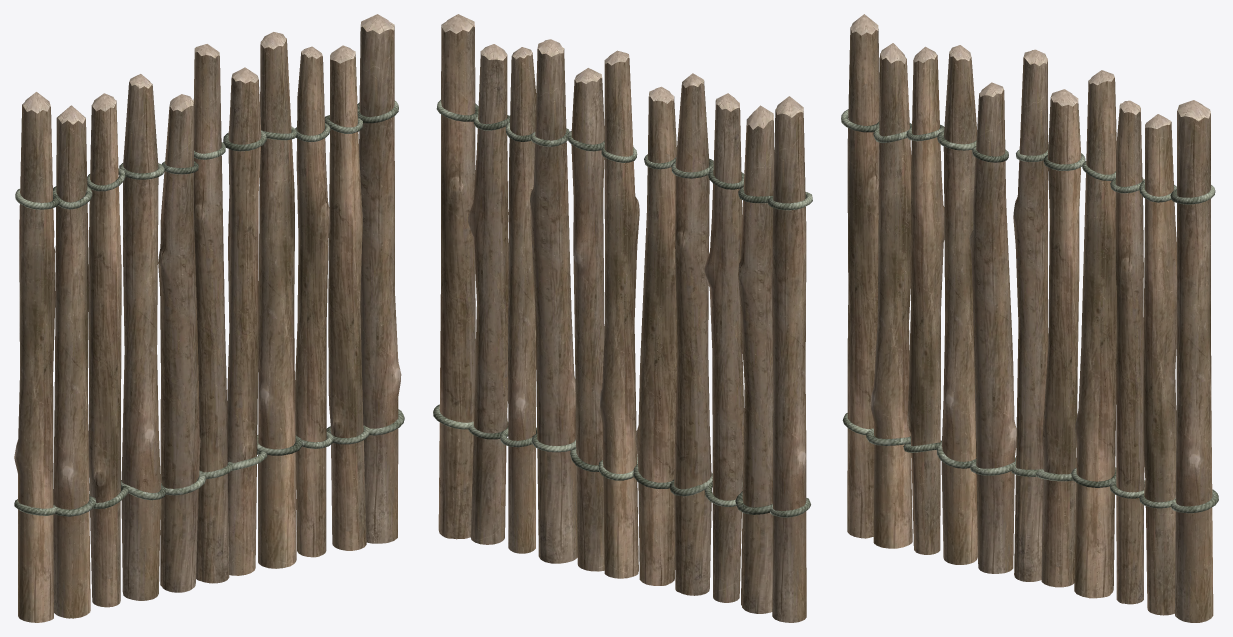
3 renders of one model, left to right at view 1: azimuth 30°, elevation 25°; view 2: azimuth 150°, elevation 25°; view 3: azimuth 330°, elevation 25°, orthographic.
Parts seen in each view (by area): view 1: SM_BB_T1_Pallisades_LOD0; view 2: SM_BB_T1_Pallisades_LOD0; view 3: SM_BB_T1_Pallisades_LOD0.
Boxes of the visible parts, x1,y1,x2,y2 form: SM_BB_T1_Pallisades_LOD0: (14, 14, 404, 622); SM_BB_T1_Pallisades_LOD0: (433, 14, 812, 622); SM_BB_T1_Pallisades_LOD0: (841, 14, 1218, 622).
Size of the model in its own units: 3.07 by 4.09 by 0.4082.
Materials: 1 (1 with a texture image).
